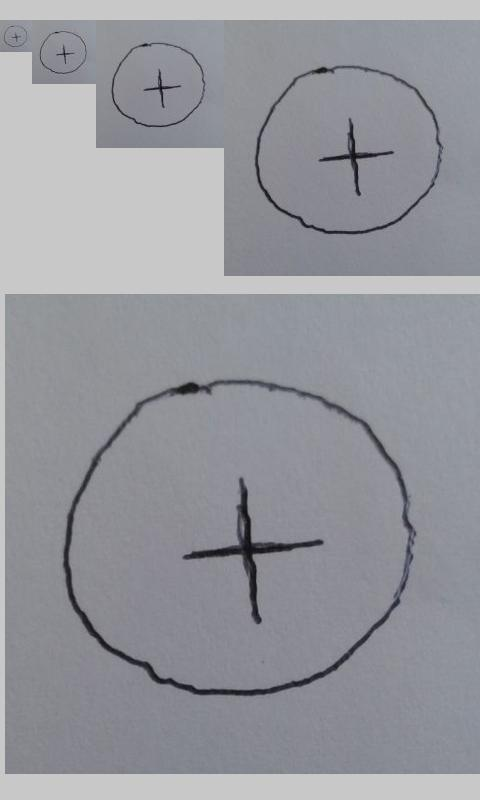button: (63, 376, 417, 700), (254, 64, 444, 236), (111, 42, 207, 128), (39, 30, 87, 75), (3, 25, 28, 48)
